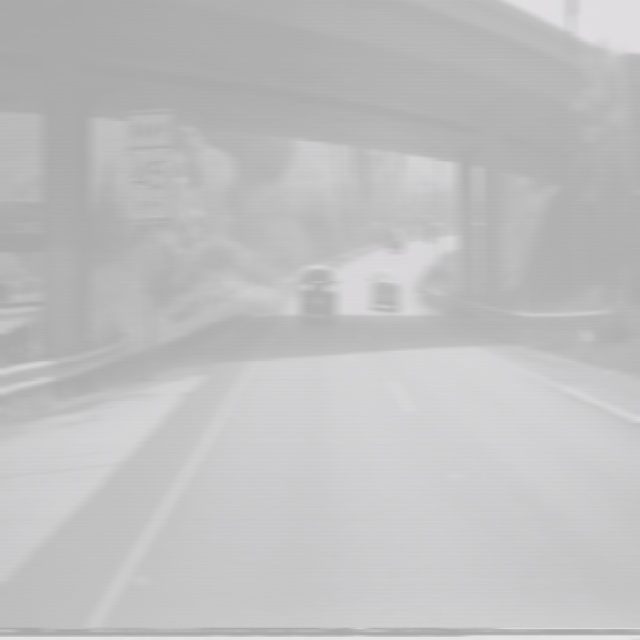rampSpeedAdvisory45: (126, 106, 173, 224)
